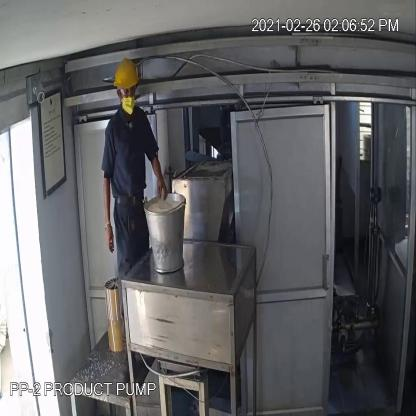helmet: (108, 53, 144, 94)
